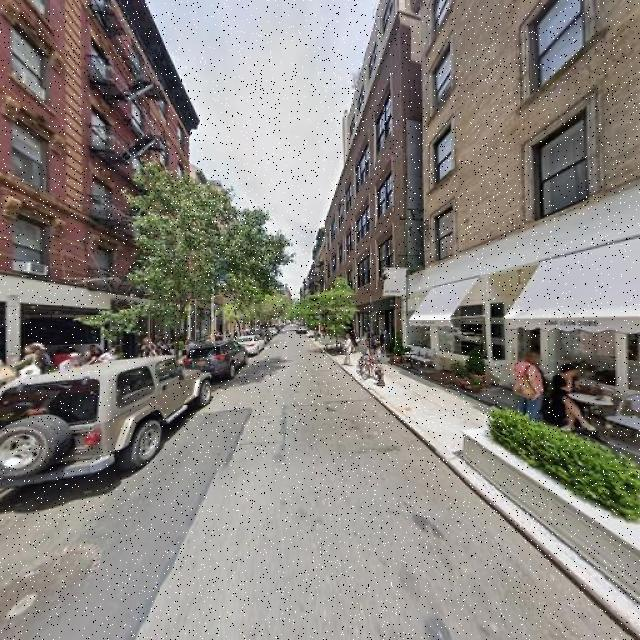Building: (425, 1, 640, 427), (1, 1, 187, 404)
